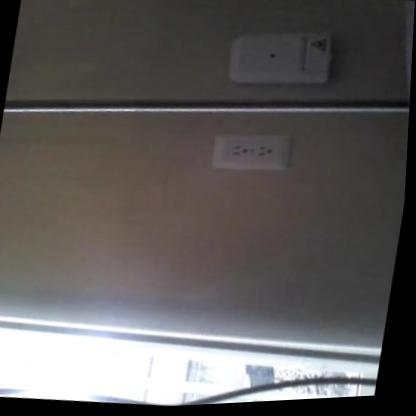OUTLET: (208, 123, 294, 175)
